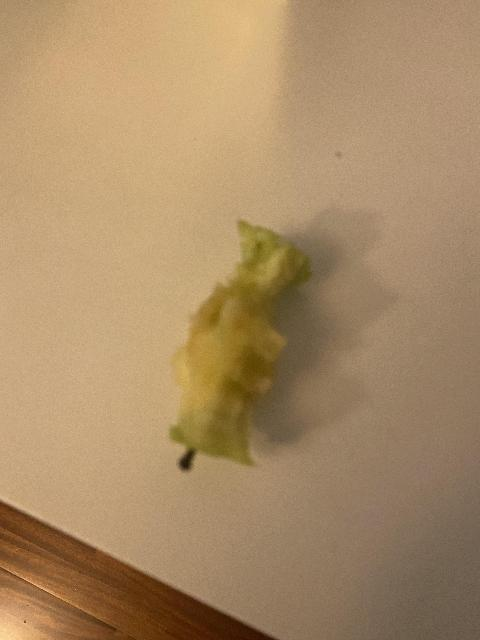Organik: (140, 217, 316, 494)
